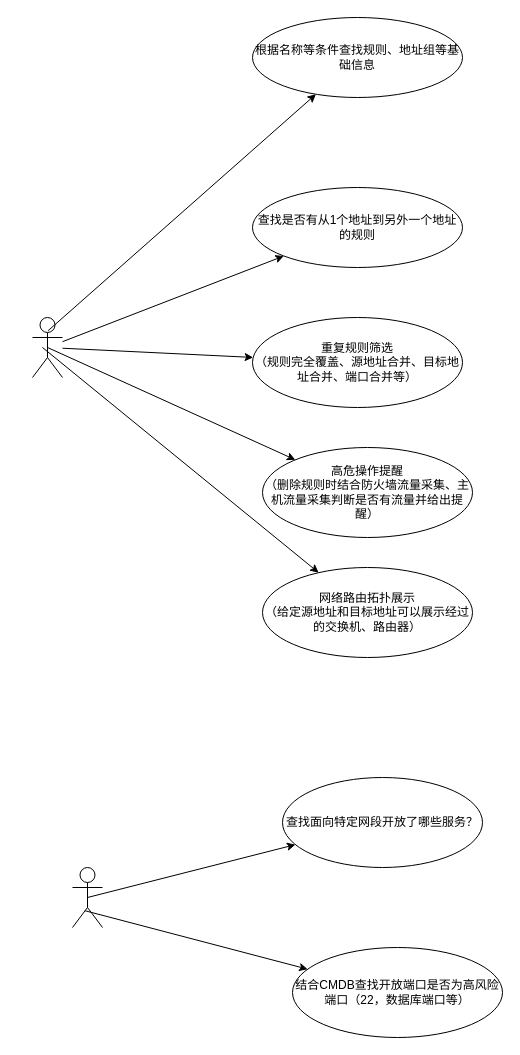
The diagram is 520 pixels wide and 1055 high, and some of its shapes have lost their labels. Here are the shapes that lost their labels. From the top down, the centre of each, then its label:
point 47,347: 网络管理员
point 87,897: 安全管理员
